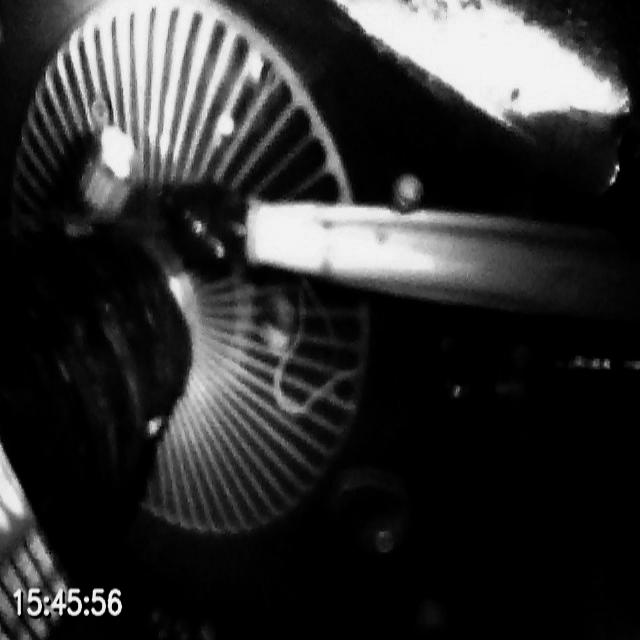head: (64, 126, 136, 226)
